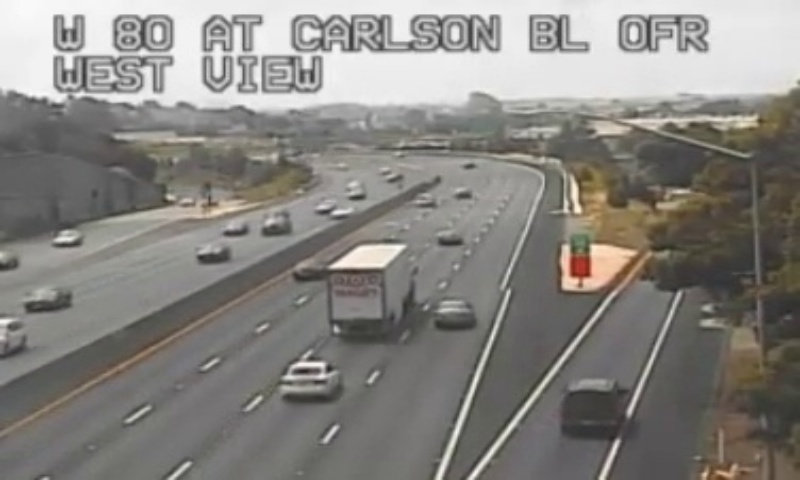car: (561, 378, 621, 436), (278, 360, 338, 398), (434, 299, 472, 328), (295, 259, 327, 279)
truck: (325, 243, 410, 341)
